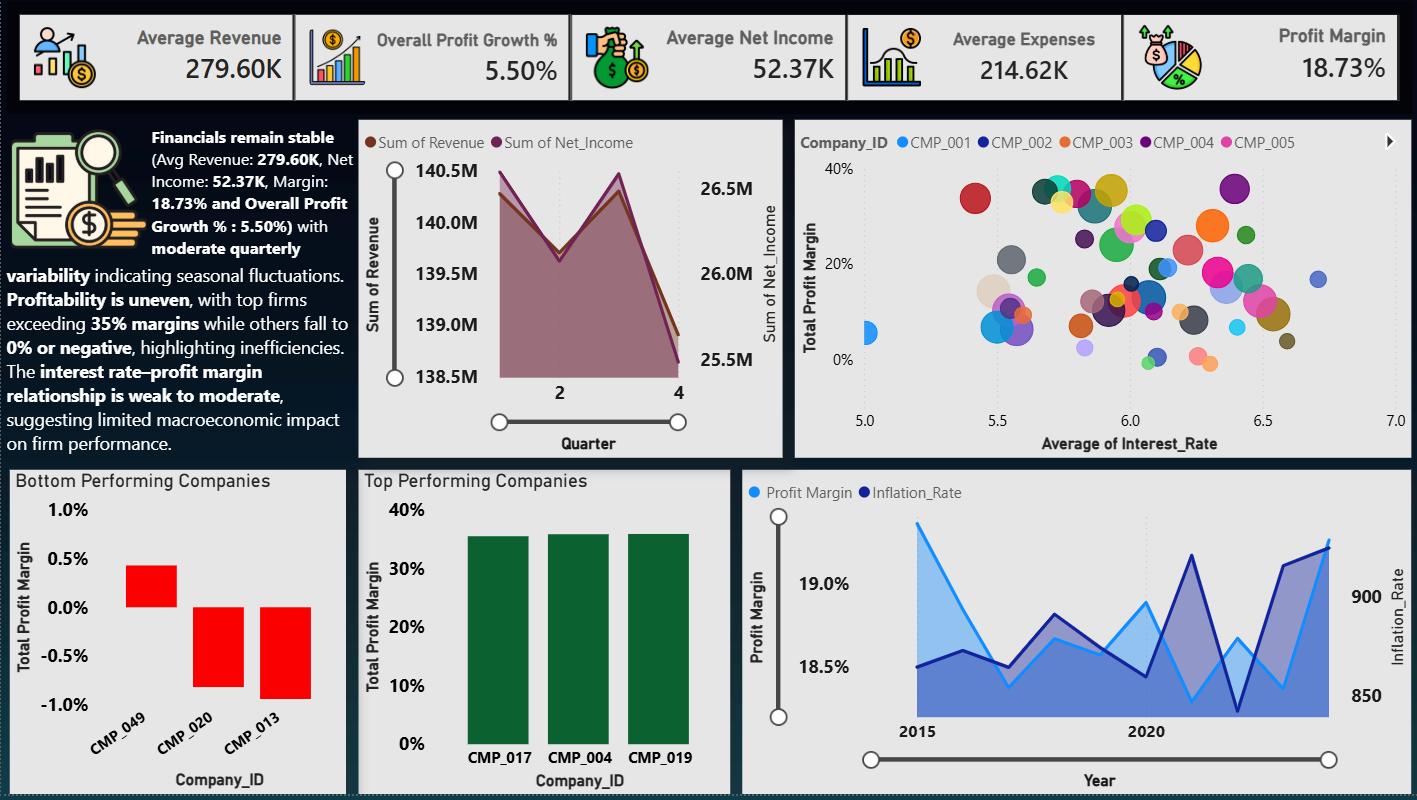

What the dashboard file says about the page in this screenshot:
{"tool":"powerbi","page":{"name":"Page 1","canvas":[1280,720],"ordinal":0},"visuals":[{"type":"cardVisual","fields":{"Data":["Avg(financialdataset.Revenue)","financialdataset.Profit Growth %","Avg(financialdataset.Net_Income)","Avg(financialdataset.Expenses)","financialdataset.Total Profit Margin"]},"box":[0,0,1280.3,111.3],"z":0},{"type":"clusteredColumnChart","title":"Top Performing Companies","fields":{"Y":["financialdataset.Profit Margin"],"Category":["financialdataset.Company_ID"]},"box":[322.8,426.8,335.1,293.5],"z":1000},{"type":"clusteredColumnChart","title":"Bottom Performing Companies","fields":{"Y":["financialdataset.Profit Margin"],"Category":["financialdataset.Company_ID"]},"box":[8.1,426.7,303.5,293],"z":2000},{"type":"lineChart","fields":{"Y2":["Sum(financialdataset.Inflation_Rate)"],"Y":["financialdataset.Total Profit Margin"],"Category":["financialdataset.Year"]},"box":[668.6,426.7,603.5,293],"z":3000},{"type":"lineChart","fields":{"Category":["financialdataset.Quarter"],"Y":["Sum(financialdataset.Revenue)"],"Y2":["Sum(financialdataset.Net_Income)"]},"box":[322.8,111.3,382.7,304.5],"z":4000},{"type":"scatterChart","fields":{"X":["Avg(financialdataset.Interest_Rate)"],"Y":["financialdataset.Total Profit Margin"],"Series":["financialdataset.Company_ID"],"Size":["Sum(financialdataset.Revenue)"]},"box":[716.3,111.6,555.8,304.7],"z":5000},{"type":"image","box":[8.6,111.3,122.3,124.7],"z":6000},{"type":"textbox","box":[130.8,111.3,192,135.7],"z":7000},{"type":"textbox","box":[0,236,322.8,199.3],"z":8000}]}

Visuals, with their boxes in screenshot pixels (x1, y1, x2, y2), scaled from the page's 1280x720 canvas onto the 1417x800 screenshot:
cardVisual - Avg(financialdataset.Revenue) x financialdataset.Profit Growth %: BBox(0, 0, 1416, 124)
"Top Performing Companies" clusteredColumnChart: BBox(357, 474, 728, 799)
"Bottom Performing Companies" clusteredColumnChart: BBox(9, 474, 345, 799)
lineChart - Sum(financialdataset.Inflation_Rate) x financialdataset.Total Profit Margin: BBox(740, 474, 1408, 799)
lineChart - financialdataset.Quarter x Sum(financialdataset.Revenue): BBox(357, 124, 781, 462)
scatterChart - Avg(financialdataset.Interest_Rate) x financialdataset.Total Profit Margin: BBox(793, 124, 1408, 463)
image: BBox(10, 124, 145, 262)
textbox: BBox(145, 124, 357, 274)
textbox: BBox(0, 262, 357, 484)
